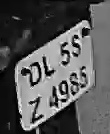4: (47, 87, 61, 111)
5: (59, 41, 71, 68), (79, 65, 88, 89)
8: (69, 74, 82, 95)
9: (58, 81, 72, 104)
D: (24, 61, 44, 90)
L: (41, 55, 55, 79)
S: (71, 34, 83, 60)
Z: (29, 95, 44, 125)
